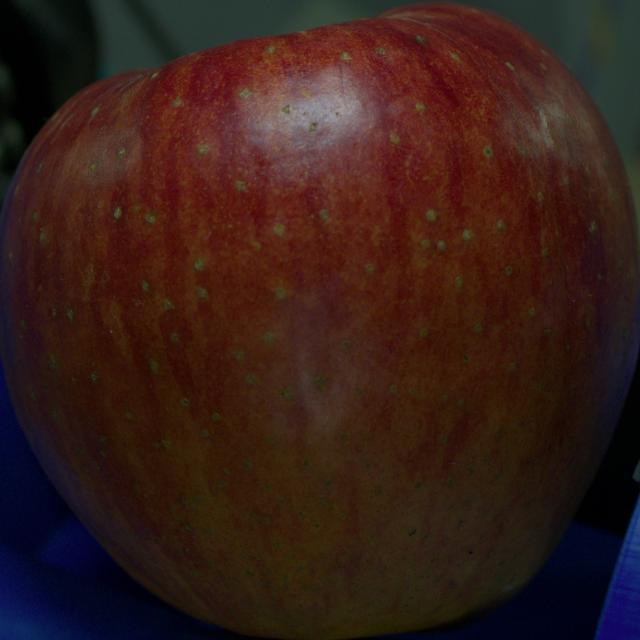apple: (0, 4, 639, 639)
